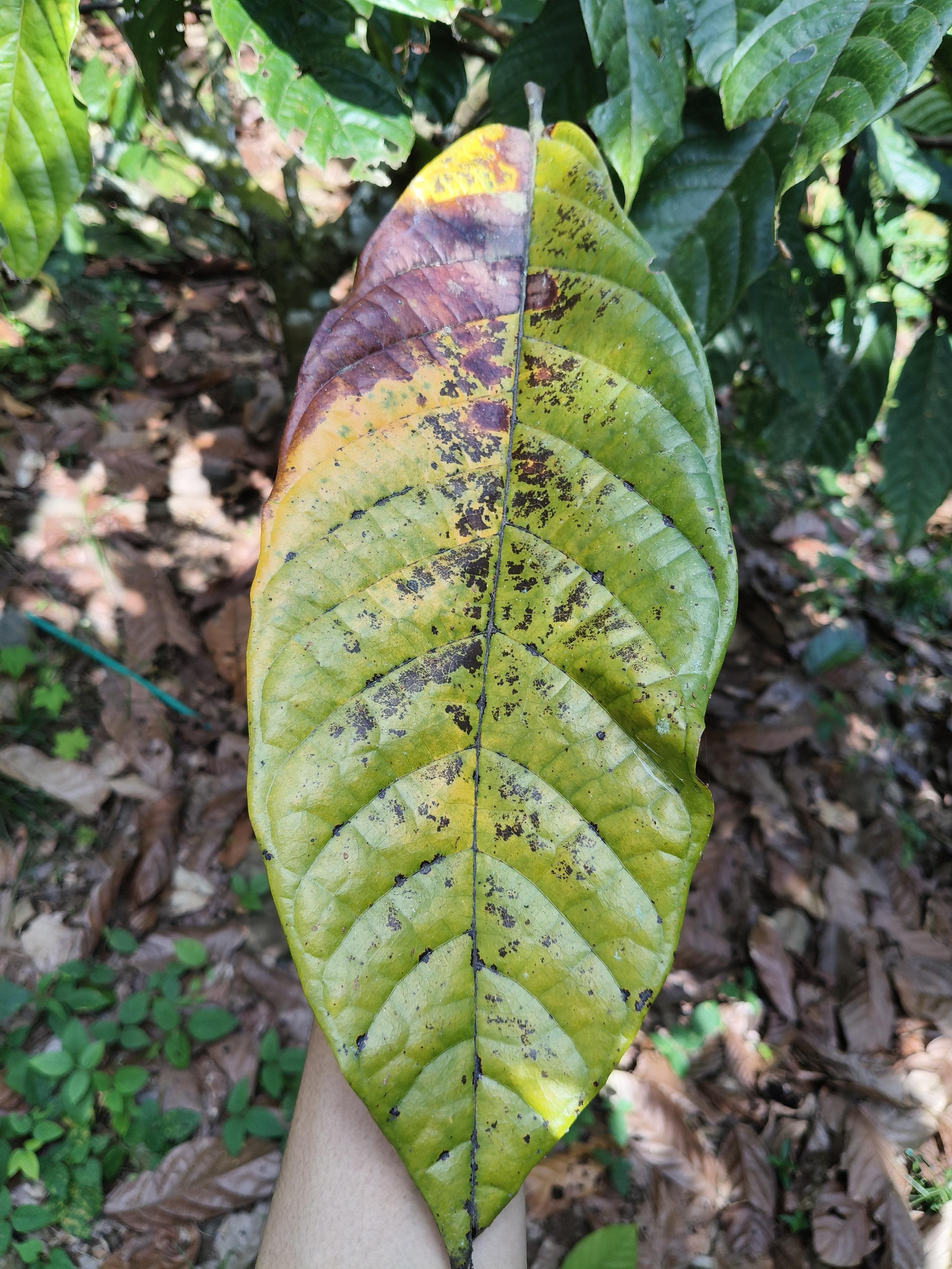deficiencia_potasio: (251, 115, 713, 1269)
